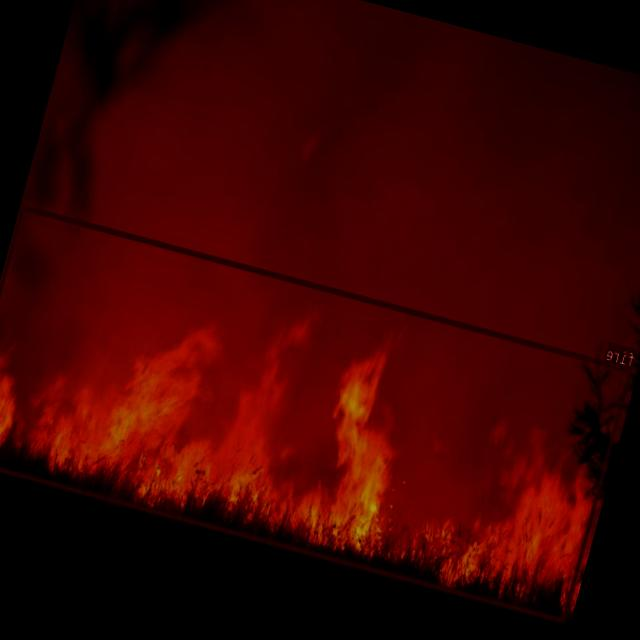fire: (0, 203, 633, 622)
